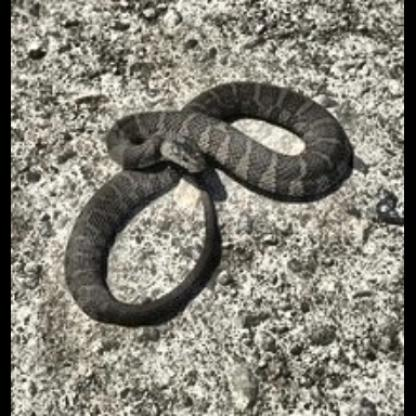Snake: (52, 53, 372, 366)
